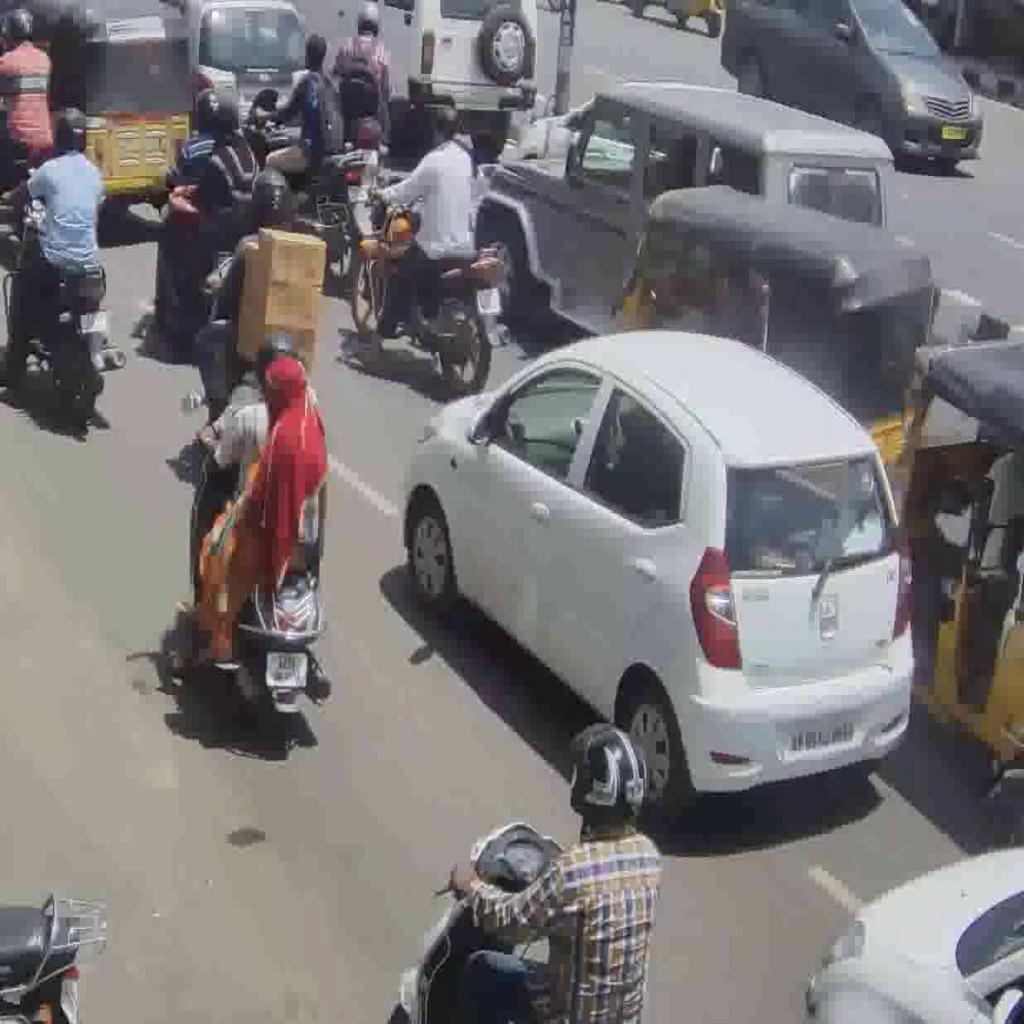helmet: (187, 404, 333, 752), (389, 812, 570, 1024), (350, 173, 512, 394), (1, 165, 126, 428)
